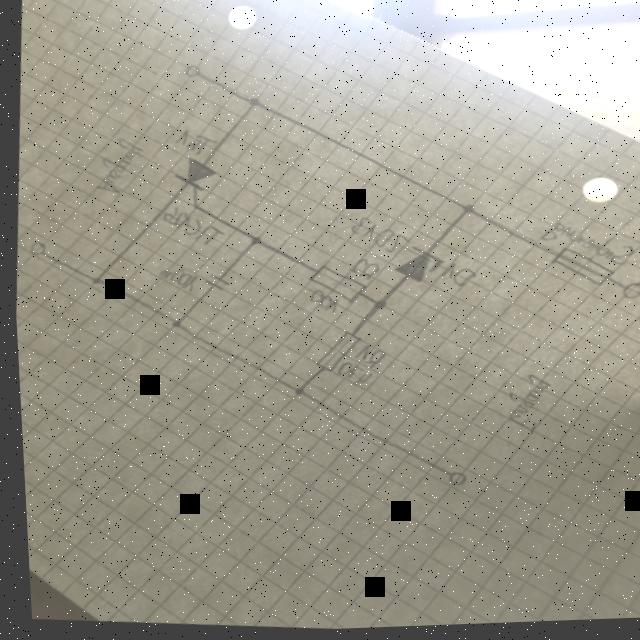capacitor: (198, 272, 230, 295)
diode: (388, 245, 445, 288)
junction: (458, 205, 474, 218), (245, 96, 260, 109), (369, 300, 385, 312), (165, 319, 181, 330), (247, 235, 261, 247), (87, 275, 102, 286), (290, 387, 301, 398)
resistor: (303, 264, 368, 308), (308, 329, 361, 377)
terminal: (617, 284, 640, 304), (441, 472, 463, 490), (26, 239, 45, 257), (182, 63, 202, 80)
text: (535, 220, 636, 274), (90, 135, 146, 198), (497, 374, 552, 438), (159, 204, 226, 248), (347, 216, 410, 258), (170, 128, 217, 158), (153, 266, 198, 294), (331, 361, 372, 390), (436, 263, 475, 291), (349, 345, 386, 373), (343, 258, 380, 285), (304, 289, 337, 316)
thyristor: (168, 155, 219, 211)
